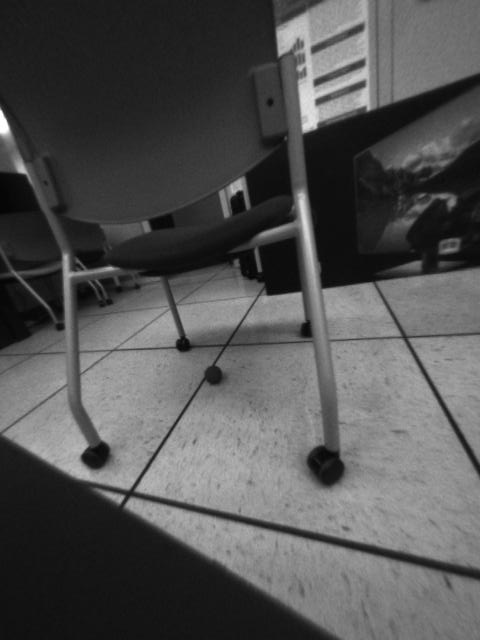dogtoy: (195, 358, 230, 388)
